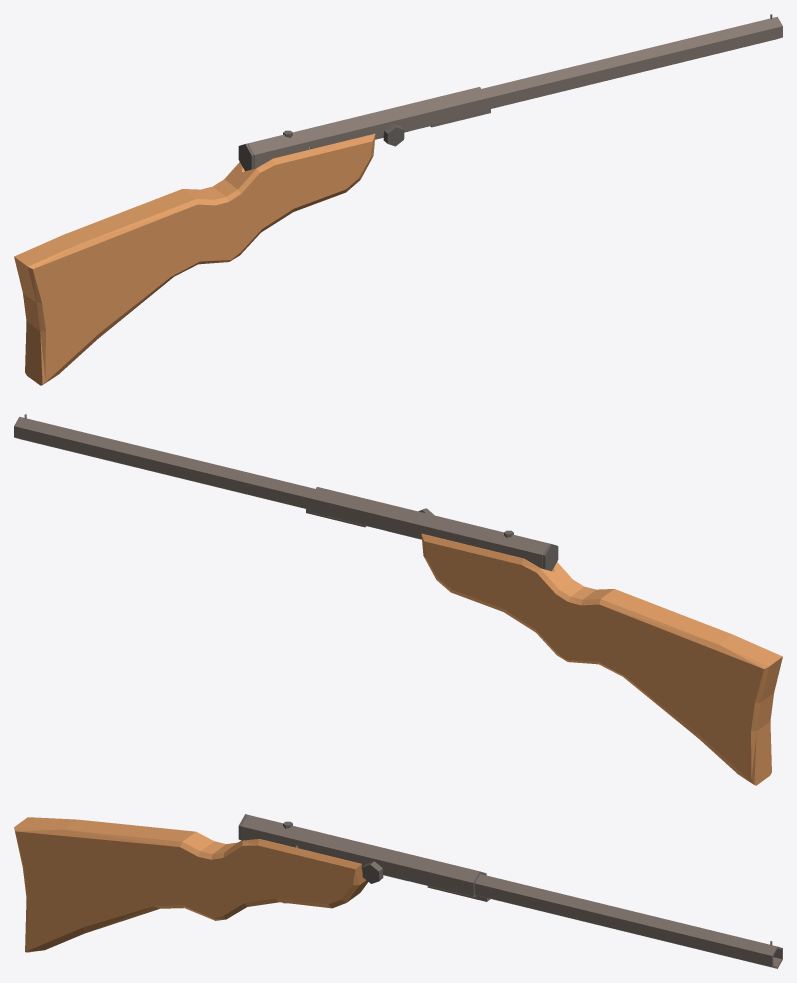
File: Richardson.fbx
3 renders of one model, top to bottom at view 1: azimuth 30°, elevation 25°; view 2: azimuth 150°, elevation 25°; view 3: azimuth 330°, elevation 25°, orthographic.
Visible parts, largest first — view 1: Slamfire, barrel; view 2: Slamfire, barrel; view 3: Slamfire, barrel, safety.
Part boxes in pixels (left/top/right/bottom): Slamfire: left=14, top=87, right=486, bottom=385; barrel: left=430, top=14, right=782, bottom=127; Slamfire: left=310, top=487, right=782, bottom=785; barrel: left=14, top=414, right=366, bottom=527; Slamfire: left=14, top=814, right=486, bottom=952; barrel: left=427, top=874, right=782, bottom=968; safety: left=362, top=861, right=383, bottom=883.
Size of the model in its own units: 443 by 104 by 22.18.
